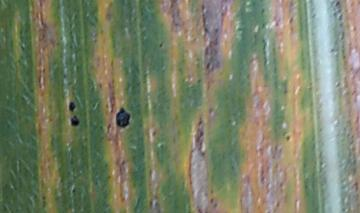tarspot: (189, 116, 207, 157), (114, 105, 133, 130), (70, 114, 81, 129), (68, 100, 76, 113), (156, 40, 166, 50), (203, 45, 209, 56), (287, 16, 295, 24), (195, 206, 204, 213), (284, 134, 291, 142), (259, 8, 267, 15), (205, 59, 210, 70), (209, 197, 213, 205)
